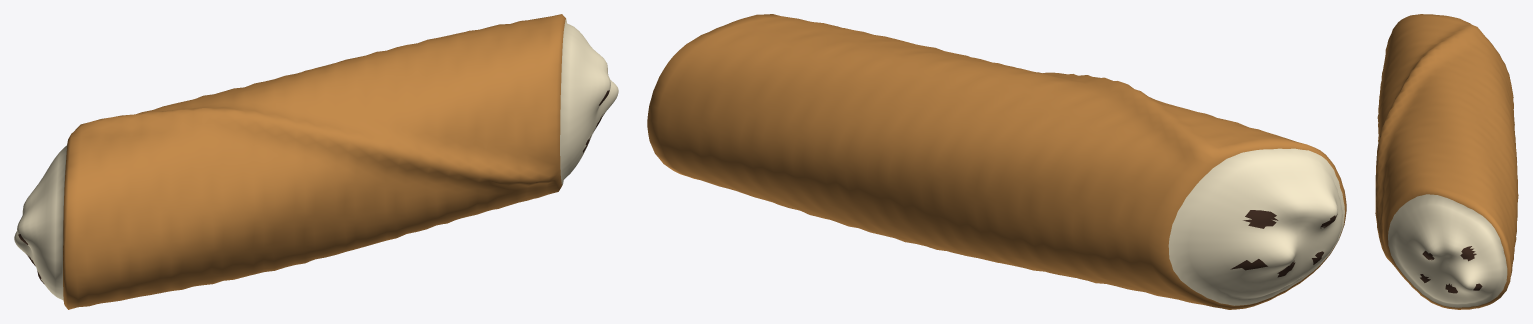
The model's file is NEW364_cannoli_LOD1.glb.
The picture shows the model from 3 angles, left to right: view 1: azimuth 30°, elevation 25°; view 2: azimuth 150°, elevation 25°; view 3: azimuth 270°, elevation 25°; orthographic projection. The views are drawn at different scales.
Parts seen in each view (by area): view 1: Whole_cannolo; view 2: Whole_cannolo; view 3: Whole_cannolo.
Boxes of the visible parts, x1,y1,x2,y2 form: Whole_cannolo: (14, 14, 618, 309); Whole_cannolo: (647, 14, 1346, 309); Whole_cannolo: (1375, 14, 1518, 309).
Size of the model in its own units: 0.1612 by 0.043 by 0.0429.
